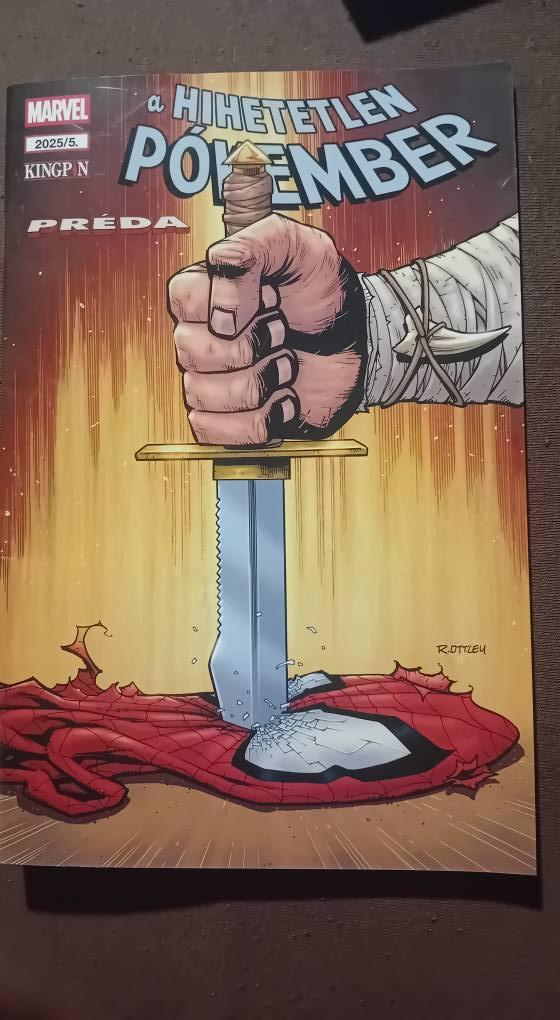comic: (0, 64, 535, 873)
